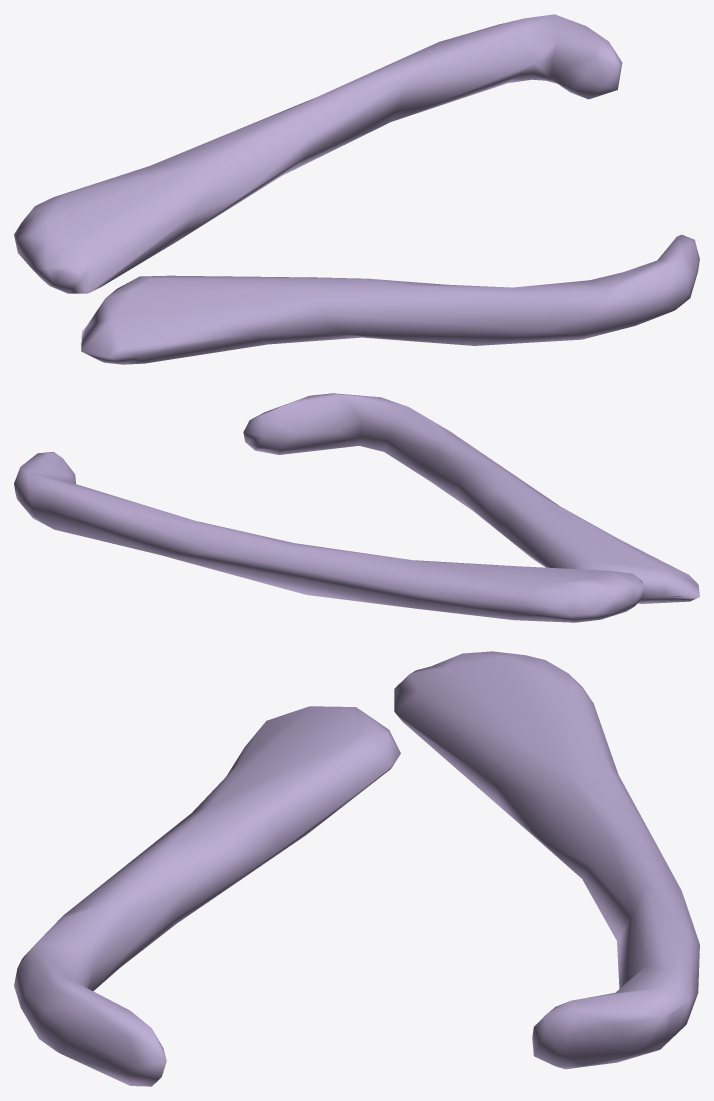
3 views of the same model, one above another, from view 1: azimuth 30°, elevation 25°; view 2: azimuth 150°, elevation 25°; view 3: azimuth 270°, elevation 25° (orthographic). The views are drawn at different scales.
Parts seen in each view (by area): view 1: 左侧泪小管; view 2: 左侧泪小管; view 3: 左侧泪小管.
Boxes of the visible parts, <box> form: 左侧泪小管: <box>14,14,699,364</box>; 左侧泪小管: <box>14,393,699,622</box>; 左侧泪小管: <box>14,651,699,1086</box>.
Size of the model in its own units: 0.0104 by 0.00171 by 0.00738.
